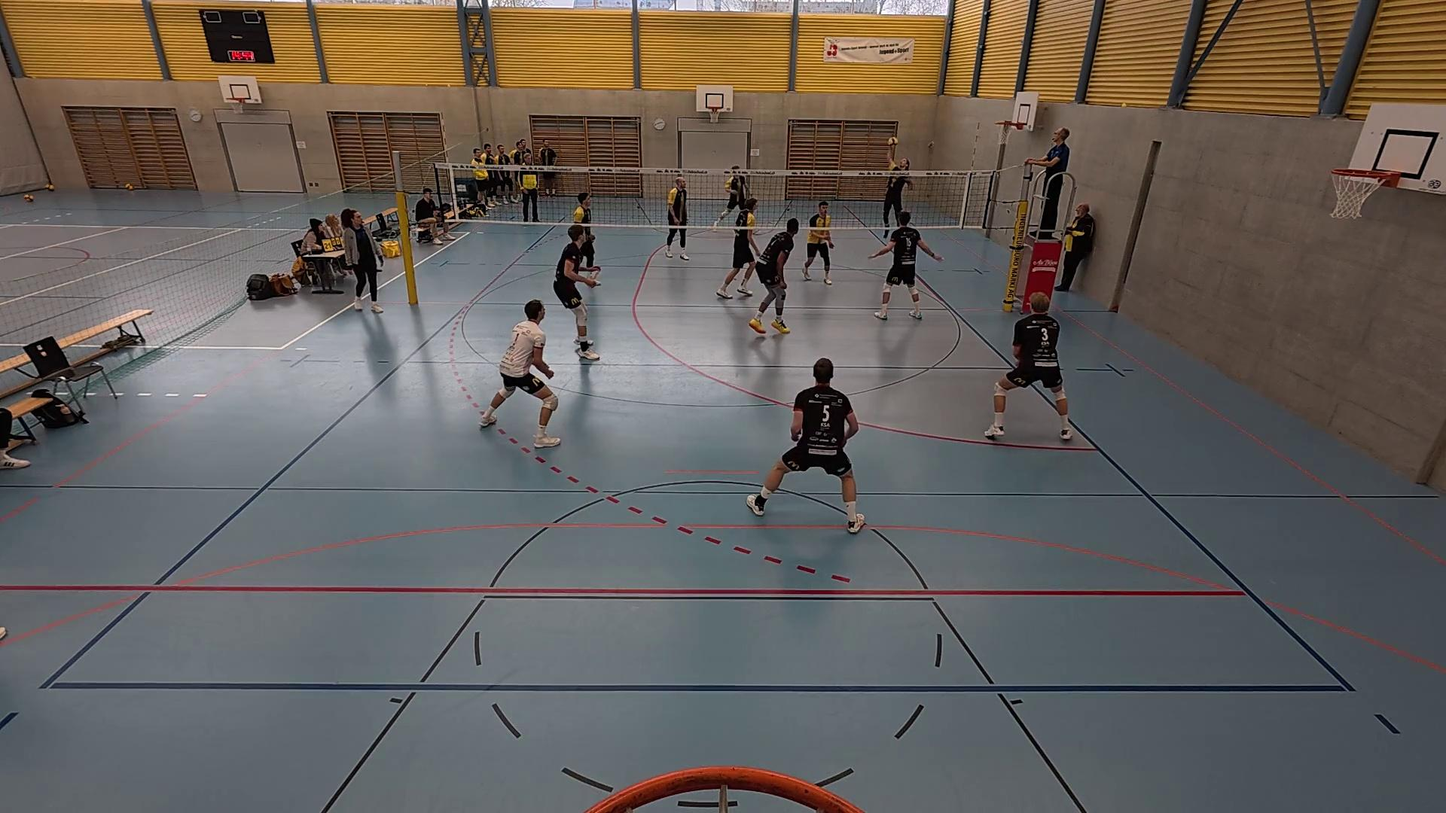attacco: (879, 144, 913, 234)
